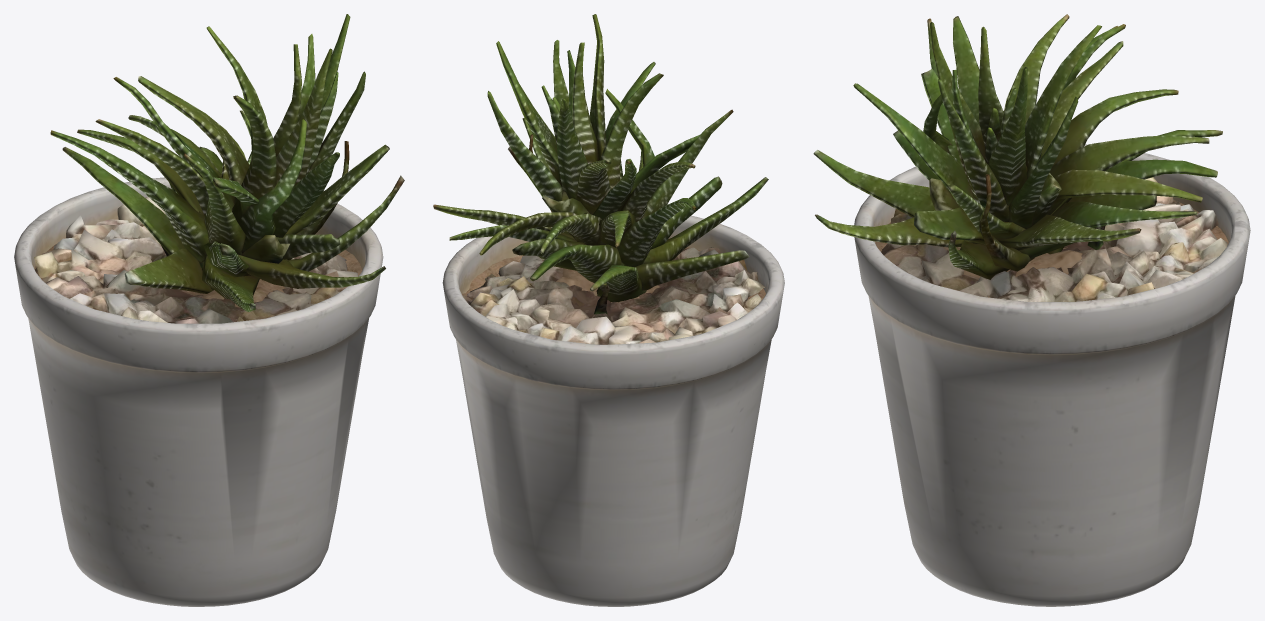
The model's file is potted_plant_04.glb.
3 renders of one model, left to right at view 1: azimuth 30°, elevation 25°; view 2: azimuth 150°, elevation 25°; view 3: azimuth 270°, elevation 25°, orthographic. The views are drawn at different scales.
Visible parts, largest first — view 1: potted_plant_04_pot, potted_plant_04_plant, potted_plant_04_ground, potted_plant_04_dirt; view 2: potted_plant_04_pot, potted_plant_04_plant, potted_plant_04_ground, potted_plant_04_dirt; view 3: potted_plant_04_pot, potted_plant_04_plant, potted_plant_04_ground, potted_plant_04_dirt.
Boxes of the visible parts, <box> form: potted_plant_04_pot: <box>14,177,383,606</box>; potted_plant_04_plant: <box>50,14,404,311</box>; potted_plant_04_ground: <box>34,197,358,323</box>; potted_plant_04_dirt: <box>34,238,362,307</box>; potted_plant_04_pot: <box>442,215,784,606</box>; potted_plant_04_plant: <box>433,14,768,314</box>; potted_plant_04_ground: <box>463,247,765,344</box>; potted_plant_04_dirt: <box>462,247,765,306</box>; potted_plant_04_pot: <box>854,144,1250,606</box>; potted_plant_04_plant: <box>813,14,1222,279</box>; potted_plant_04_ground: <box>881,177,1227,301</box>; potted_plant_04_dirt: <box>875,200,1228,297</box>.
Bounding box in the file's own units: 0.1679 × 0.2675 × 0.1848.
1 material, 1 textured.
